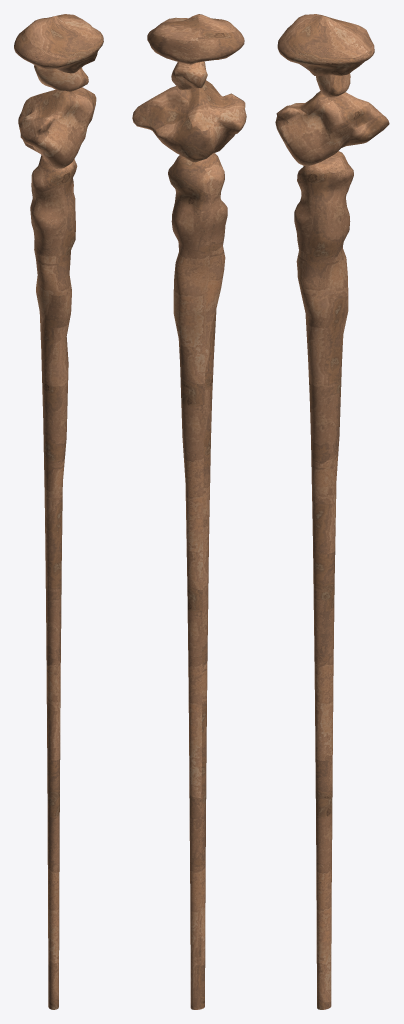
File: Ob_RockPillar3.fbx
3 views of the same model, side by side, from view 1: azimuth 30°, elevation 25°; view 2: azimuth 150°, elevation 25°; view 3: azimuth 330°, elevation 25° (orthographic).
Parts seen in each view (by area): view 1: Ob_RockPillar3; view 2: Ob_RockPillar3; view 3: Ob_RockPillar3.
Boxes of the visible parts, left/top/right/bottom form: Ob_RockPillar3: left=14, top=14, right=103, bottom=1009; Ob_RockPillar3: left=132, top=14, right=246, bottom=1009; Ob_RockPillar3: left=275, top=14, right=389, bottom=1009.
Bounding box in the file's own units: 9735 × 102736 × 8063.
